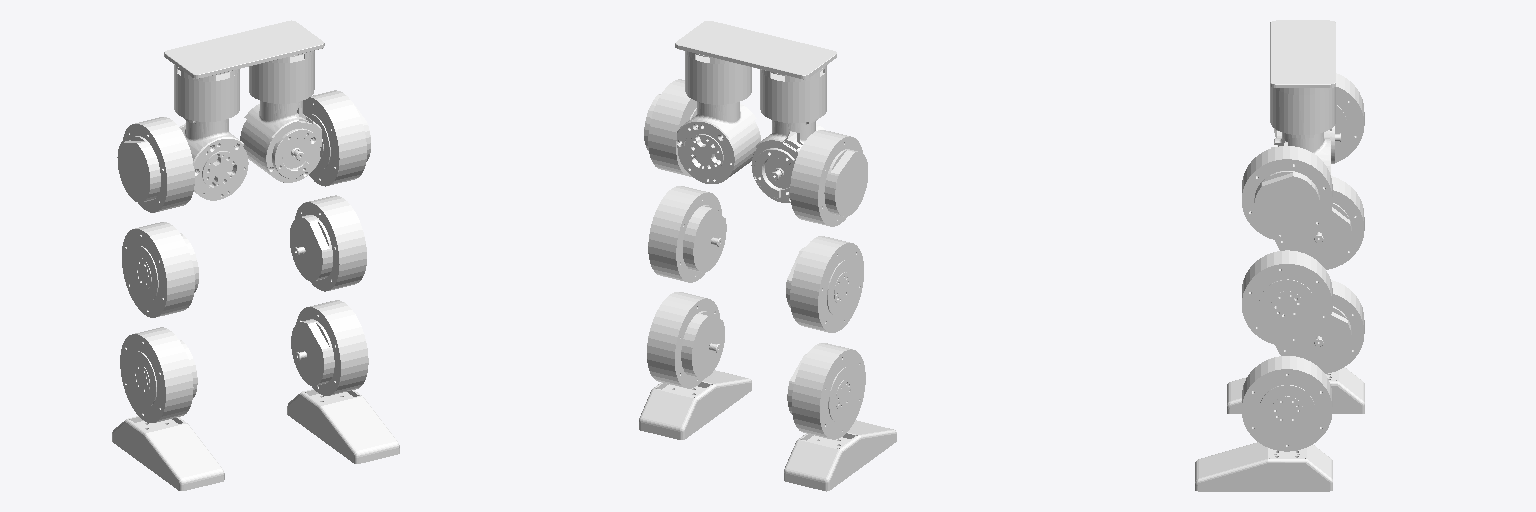
The robot description file, URDF, robot "converted_robot":
<?xml version="1.0" ?>
<robot name="converted_robot">
   <link name="world">
      <inertial>
         <origin xyz="0.0 0.0 0.0" rpy="0.0 0.0 0.0"/>
         <mass value="0.0"/>
         <inertia ixx="0.0" iyy="0.0" izz="0.0" ixy="0" ixz="0" iyz="0"/>
      </inertial>
   </link>
   <link name="base">
      <inertial>
         <origin xyz="-3.4211304109885643e-06 -2.490354269956851e-08 0.0015607933514156045" rpy="-0.17751113049943767 -1.5707843937251857 -2.964091695409995"/>
         <mass value="102.0"/>
         <inertia ixx="0.17242001282942743" iyy="0.1466316728707274" izz="0.028716044382297204" ixy="0" ixz="0" iyz="0"/>
      </inertial>
      <visual name="top_base">
         <origin xyz="-1.727430576882212e-11 -3.036580521290373e-12 0.0020000000757601855" rpy="3.141592653589793 -1.5707963267948966 0.0"/>
         <geometry>
            <mesh filename="converted_top_base.stl"/>
         </geometry>
         <material name="white"/>
      </visual>
      <visual name="GSA_motor">
         <origin xyz="-0.03717447678724513 -1.2699288486519294e-06 -0.02039954286581345" rpy="2.064562682641896 -1.282378978223323 0.05188910277957115"/>
         <geometry>
            <mesh filename="converted_GSA_motor.stl"/>
         </geometry>
         <material name="white"/>
      </visual>
      <visual name="GSA_motor">
         <origin xyz="0.03682552321275487 -1.2699288486519294e-06 -0.02039954286581345" rpy="2.064562682641896 -1.282378978223323 0.05188910277957115"/>
         <geometry>
            <mesh filename="converted_GSA_motor.stl"/>
         </geometry>
         <material name="white"/>
      </visual>

      <collision>
         <geometry>
            <cylinder length="0.05" radius="0.04"/>
         </geometry>
         <origin xyz="-0.037 0 -0.022" rpy="0 0 0"/>
         <contact_coefficients mu="1" kp="1000.0" kd="1.0"/>
      </collision>
      <collision>
         <geometry>
            <cylinder length="0.05" radius="0.04"/>
         </geometry>
         <origin xyz="0.037 0 -0.022" rpy="0 0 0"/>
         <contact_coefficients mu="1" kp="1000.0" kd="1.0"/>
      </collision>
   </link>

   <link name="world2base_fixed_jointbody">
      <inertial>
         <origin xyz="0.0 0.0 0.0" rpy="0.0 0.0 0.0"/>
         <mass value="0.001"/>
         <inertia ixx="1e-09" iyy="1e-09" izz="1e-09" ixy="0" ixz="0" iyz="0"/>
      </inertial>
   </link>
   <joint type="fixed" name="world2base_fixed">
      <parent link="world"/>
      <child link="world2base_fixed_jointbody"/>
      <origin xyz="0.0 0.0 0.3685" rpy="0.0 0.0 0.0"/>
   </joint>
   <joint type="fixed" name="world2base_fixed_offset">
      <parent link="world2base_fixed_jointbody"/>
      <child link="base"/>
      <origin xyz="-0.0 -0.0 -0.0" rpy="0.0 0.0 0.0"/>
   </joint>
   <link name="left_leg1">
      <inertial>
         <origin xyz="-0.001452937585979903 0.01710854259181341 0.009885533891432676" rpy="-0.15176900399610038 -0.11560929427985034 2.3500658386485105"/>
         <mass value="1.0"/>
         <inertia ixx="0.00047926905851977604" iyy="0.000462327954156068" izz="0.0003410536632309082" ixy="0" ixz="0" iyz="0"/>
      </inertial>
      <visual name="leg1">
         <origin xyz="-0.001452937585979903 0.01710854259181341 0.009885533891432676" rpy="-0.15176900434746465 -0.11560931426673537 2.3500658417272327"/>
         <geometry>
            <mesh filename="converted_leg1.stl"/>
         </geometry>
         <material name="white"/>
      </visual>

      <collision>
         <origin xyz="0 0.01375 0.035" rpy="0 0 0"/>
         <geometry>
            <cylinder radius="0.022" length="0.02"/>
         </geometry>
      </collision>
      <collision>
         <origin xyz="0 0.015 0" rpy="1.5707963268 0 0"/> <!-- Rotation of 90 degrees about the X-axis -->
         <geometry>
            <cylinder radius="0.031" length="0.056"/>
         </geometry>
      </collision>

   </link>
   <link name="joint_left_leg1_jointbody">
      <inertial>
         <origin xyz="0.0 0.0 0.0" rpy="0.0 0.0 0.0"/>
         <mass value="0.001"/>
         <inertia ixx="1e-09" iyy="1e-09" izz="1e-09" ixy="0" ixz="0" iyz="0"/>
      </inertial>
   </link>
   <joint type="revolute" name="joint_left_leg1">
      <parent link="base"/>
      <child link="joint_left_leg1_jointbody"/>
      <origin xyz="-0.037 0.0 -0.095" rpy="0.0 0.0 0.0"/>
      <axis xyz="0.0 0.0 1.0"/>
      <limit lower="-1.5707963267948966" upper="1.5707963267948966" effort="100" velocity="100"/>
   </joint>
   <joint type="fixed" name="joint_left_leg1_offset">
      <parent link="joint_left_leg1_jointbody"/>
      <child link="left_leg1"/>
      <origin xyz="-0.0 -0.01375 -0.0" rpy="0.0 0.0 0.0"/>
   </joint>
   <link name="left_leg2">
      <inertial>
         <origin xyz="-0.06353323746651635 -1.0117572570772072e-05 -0.05040368781716482" rpy="0.0005981280417807397 -0.05157899065452698 -0.0006661205266934999"/>
         <mass value="1.0"/>
         <inertia ixx="0.002952437700856836" iyy="0.002736345424099424" izz="0.00043670614070026326" ixy="0" ixz="0" iyz="0"/>
      </inertial>
      <visual name="leg2">
         <origin xyz="-0.06353323746651635 -1.0117572570772072e-05 -0.05040368781716482" rpy="0.0005981280661683934 -0.051579022869918 -0.0006661205458496606"/>
         <geometry>
            <mesh filename="converted_leg2.stl"/>
         </geometry>
         <material name="white"/>
      </visual>

      <collision>
         <origin xyz="-0.068 0 0" rpy="0 1.5707963268 0"/> <!-- 90 degrees rotation around the Y-axis -->
         <geometry>
            <cylinder radius="0.04" length="0.042"/>
         </geometry>
      </collision>
      <collision>
         <origin xyz="-0.06525 0 -0.05" rpy="0 0 0"/> <!-- No rotation -->
         <geometry>
            <capsule radius="0.01" length="0.02"/>
         </geometry>
      </collision>
      <collision>
         <origin xyz="-0.06 0 -0.1" rpy="0 1.5707963268 0"/> <!-- 90 degrees rotation around the Y-axis -->
         <geometry>
            <cylinder radius="0.04" length="0.042"/>
         </geometry>
      </collision>
      <collision>
         <origin xyz="-0.033 0 -0.1" rpy="0 1.5707963268 0"/> <!-- 90 degrees rotation around the Y-axis -->
         <geometry>
            <cylinder radius="0.006" length="0.012"/>
         </geometry>
      </collision>

   </link>
   <link name="joint_left_leg12_jointbody">
      <inertial>
         <origin xyz="0.0 0.0 0.0" rpy="0.0 0.0 0.0"/>
         <mass value="0.001"/>
         <inertia ixx="1e-09" iyy="1e-09" izz="1e-09" ixy="0" ixz="0" iyz="0"/>
      </inertial>
   </link>
   <joint type="revolute" name="joint_left_leg12">
      <parent link="left_leg1"/>
      <child link="joint_left_leg12_jointbody"/>
      <origin xyz="0.0115 0.01375 0.0" rpy="0.0 0.0 0.0"/>
      <axis xyz="0.0 1.0 0.0"/>
      <limit lower="-0.872665" upper="0.174533" effort="100" velocity="100"/>
   </joint>
   <link name="joint_left_leg2_jointbody">
      <inertial>
         <origin xyz="0.0 0.0 0.0" rpy="0.0 0.0 0.0"/>
         <mass value="0.001"/>
         <inertia ixx="1e-09" iyy="1e-09" izz="1e-09" ixy="0" ixz="0" iyz="0"/>
      </inertial>
   </link>
   <joint type="revolute" name="joint_left_leg2">
      <parent link="joint_left_leg12_jointbody"/>
      <child link="joint_left_leg2_jointbody"/>
      <origin xyz="0.0115 0.01375 0.0" rpy="0.0 0.0 0.0"/>
      <axis xyz="-1.0 0.0 0.0"/>
      <limit lower="-2.967060" upper="2.967060" effort="100" velocity="100"/>
   </joint>
   <joint type="fixed" name="joint_left_leg2_offset">
      <parent link="joint_left_leg2_jointbody"/>
      <child link="left_leg2"/>
      <origin xyz="-0.0 -0.0 -0.0" rpy="0.0 0.0 0.0"/>
   </joint>
   <link name="left_leg3">
      <inertial>
         <origin xyz="-0.062377196123538585 -4.644821019518809e-05 -0.10008040953289711" rpy="1.0469517637872496 -0.005645692804368663 0.003260817465023935"/>
         <mass value="1.0"/>
         <inertia ixx="0.0007016859502857594" iyy="0.0004601204567843813" izz="0.0004579127751176568" ixy="0" ixz="0" iyz="0"/>
      </inertial>
      <visual name="leg3">
         <origin xyz="-0.062377196123538585 -4.644821019518809e-05 -0.10008040953289711" rpy="1.0469517638243213 -0.0056456965788584945 0.0032608109388136963"/>
         <geometry>
            <mesh filename="converted_leg3.stl"/>
         </geometry>
         <material name="white"/>
      </visual>

      <collision>
         <origin xyz="-0.06525 0 -0.05" rpy="0 0 0"/> <!-- No rotation -->
         <geometry>
            <capsule radius="0.01" length="0.02"/>
         </geometry>
      </collision>
      <collision>
         <origin xyz="-0.06 0 -0.1" rpy="0 1.5707963268 0"/> <!-- 90 degrees rotation around the Y-axis -->
         <geometry>
            <cylinder radius="0.04" length="0.042"/>
         </geometry>
      </collision>
      <collision>
         <origin xyz="-0.033 0 -0.1" rpy="0 1.5707963268 0"/> <!-- 90 degrees rotation around the Y-axis -->
         <geometry>
            <cylinder radius="0.006" length="0.012"/>
         </geometry>
      </collision>

   </link>
   <link name="joint_left_leg3_jointbody">
      <inertial>
         <origin xyz="0.0 0.0 0.0" rpy="0.0 0.0 0.0"/>
         <mass value="0.001"/>
         <inertia ixx="1e-09" iyy="1e-09" izz="1e-09" ixy="0" ixz="0" iyz="0"/>
      </inertial>
   </link>
   <joint type="revolute" name="joint_left_leg3">
      <parent link="left_leg2"/>
      <child link="joint_left_leg3_jointbody"/>
      <origin xyz="0.0 0.0 -0.1" rpy="0.0 0.0 0.0"/>
      <axis xyz="1.0 0.0 0.0"/>
      <limit lower="0" upper="2.268928" effort="100" velocity="100"/>
   </joint>
   <joint type="fixed" name="joint_left_leg3_offset">
      <parent link="joint_left_leg3_jointbody"/>
      <child link="left_leg3"/>
      <origin xyz="-0.0 -0.0 -0.0" rpy="0.0 0.0 0.0"/>
   </joint>
   <link name="left_foot">
      <inertial>
         <origin xyz="-3.376177828075782e-07 -0.016111475801689343 -0.06474004681919711" rpy="3.1403444956905995 -1.528381632682709 -1.569560431427483"/>
         <mass value="2.0"/>
         <inertia ixx="0.0023275568854970643" iyy="0.002117574063224331" izz="0.0004286806635036659" ixy="0" ixz="0" iyz="0"/>
      </inertial>
      <visual name="foot">
         <origin xyz="-6.752337760860577e-07 -0.01222295164580474 -0.05848009372299657" rpy="3.140201803154934 -1.5283193564154143 -1.5694446549316492"/>
         <geometry>
            <mesh filename="converted_foot.stl"/>
         </geometry>
         <material name="white"/>
      </visual>
      <visual name="sole">
         <origin xyz="-1.7895290986650519e-12 -0.019999999957573945 -0.07099999991539764" rpy="1.5707963267948966 -1.5707963267948966 0.0"/>
         <geometry>
            <mesh filename="converted_sole.stl"/>
         </geometry>
         <material name="white"/>
      </visual>

      <collision>
         <geometry>
            <box size="0.044 0.06 0.024"/>
         </geometry>
         <origin xyz="0 0 -0.053" rpy="0 0 0"/>
      </collision>

      <collision>
         <geometry>
            <cylinder length="0.034" radius="0.006"/>
         </geometry>
         <origin xyz="0 0.034 -0.06850" rpy="0 -1.5707963268 0"/>
      </collision>

      <collision>
         <geometry>
            <cylinder length="0.034" radius="0.006"/>
         </geometry>
         <origin xyz="0 -0.074 -0.06850" rpy="0 -1.5707963268 0"/>
      </collision>

      <collision>
         <geometry>
            <cylinder length="0.108" radius="0.006"/>
         </geometry>
         <origin xyz="0.017 -0.02 -0.06850" rpy="1.5707963268 0 0"/>
      </collision>

      <collision>
         <geometry>
            <cylinder length="0.108" radius="0.006"/>
         </geometry>
         <origin xyz="-0.017 -0.02 -0.06850" rpy="1.5707963268 0 0"/>
      </collision>

      <collision>
         <geometry>
            <sphere radius="0.006"/>
         </geometry>
         <origin xyz="-0.017 0.034 -0.06850" rpy="0 0 0"/>
      </collision>
      <collision>
         <geometry>
            <sphere radius="0.006"/>
         </geometry>
         <origin xyz="-0.017 -0.074 -0.06850" rpy="0 0 0"/>
      </collision>
      <collision>
         <geometry>
            <sphere radius="0.006"/>
         </geometry>
         <origin xyz="0.017 0.034 -0.06850" rpy="0 0 0"/>
      </collision>
      <collision>
         <geometry>
            <sphere radius="0.006"/>
         </geometry>
         <origin xyz="0.017 -0.074 -0.06850" rpy="0 0 0"/>
      </collision>
   </link>
   <link name="joint_left_foot_jointbody">
      <inertial>
         <origin xyz="0.0 0.0 0.0" rpy="0.0 0.0 0.0"/>
         <mass value="0.001"/>
         <inertia ixx="1e-09" iyy="1e-09" izz="1e-09" ixy="0" ixz="0" iyz="0"/>
      </inertial>
   </link>
   <joint type="revolute" name="joint_left_foot">
      <parent link="left_leg3"/>
      <child link="joint_left_foot_jointbody"/>
      <origin xyz="-0.06525 0.0 -0.1" rpy="0.0 0.0 0.0"/>
      <axis xyz="1.0 0.0 0.0"/>
      <limit lower="-1.134464" upper="1.396263" effort="100" velocity="100"/>
   </joint>
   <joint type="fixed" name="joint_left_foot_offset">
      <parent link="joint_left_foot_jointbody"/>
      <child link="left_foot"/>
      <origin xyz="-0.0 -0.0 -0.0" rpy="0.0 0.0 0.0"/>
   </joint>
   <link name="right_leg1">
      <inertial>
         <origin xyz="-0.001452937585979903 0.01710854259181341 0.009885533891432676" rpy="-0.15176900399610038 -0.11560929427985034 2.3500658386485105"/>
         <mass value="1.0"/>
         <inertia ixx="0.00047926905851977604" iyy="0.000462327954156068" izz="0.0003410536632309082" ixy="0" ixz="0" iyz="0"/>
      </inertial>
      <visual name="leg1">
         <origin xyz="-0.001452937585979903 0.01710854259181341 0.009885533891432676" rpy="-0.15176900434746465 -0.11560931426673537 2.3500658417272327"/>
         <geometry>
            <mesh filename="converted_leg1.stl"/>
         </geometry>
         <material name="white"/>
      </visual>

      <collision>
         <origin xyz="0 0.01375 0.035" rpy="0 0 0"/>
         <geometry>
            <cylinder radius="0.022" length="0.02"/>
         </geometry>
      </collision>
      <collision>
         <origin xyz="0 0.015 0" rpy="1.5707963268 0 0"/> <!-- Rotation of 90 degrees about the X-axis -->
         <geometry>
            <cylinder radius="0.031" length="0.056"/>
         </geometry>
      </collision>
   </link>
   <link name="joint_right_leg1_jointbody">
      <inertial>
         <origin xyz="0.0 0.0 0.0" rpy="0.0 0.0 0.0"/>
         <mass value="0.001"/>
         <inertia ixx="1e-09" iyy="1e-09" izz="1e-09" ixy="0" ixz="0" iyz="0"/>
      </inertial>
   </link>
   <joint type="revolute" name="joint_right_leg1">
      <parent link="base"/>
      <child link="joint_right_leg1_jointbody"/>
      <origin xyz="0.037 0.0 -0.095" rpy="0.0 0.0 3.141592653589793"/>
      <axis xyz="0.0 0.0 1.0"/>
      <limit lower="-0.785398" upper="0.785398" effort="100" velocity="100"/>
   </joint>
   <joint type="fixed" name="joint_right_leg1_offset">
      <parent link="joint_right_leg1_jointbody"/>
      <child link="right_leg1"/>
      <origin xyz="-0.0 -0.01375 -0.0" rpy="0.0 0.0 0.0"/>
   </joint>
   <link name="right_leg2">
      <inertial>
         <origin xyz="-0.06353323746651635 -1.0117572570772072e-05 -0.05040368781716482" rpy="0.0005981280417807397 -0.05157899065452698 -0.0006661205266934999"/>
         <mass value="1.0"/>
         <inertia ixx="0.002952437700856836" iyy="0.002736345424099424" izz="0.00043670614070026326" ixy="0" ixz="0" iyz="0"/>
      </inertial>
      <visual name="leg2">
         <origin xyz="-0.06353323746651635 -1.0117572570772072e-05 -0.05040368781716482" rpy="0.0005981280661683934 -0.051579022869918 -0.0006661205458496606"/>
         <geometry>
            <mesh filename="converted_leg2.stl"/>
         </geometry>
         <material name="white"/>
      </visual>

      <collision>
         <origin xyz="-0.068 0 0" rpy="0 1.5707963268 0"/> <!-- 90 degrees rotation around the Y-axis -->
         <geometry>
            <cylinder radius="0.04" length="0.042"/>
         </geometry>
      </collision>
      <collision>
         <origin xyz="-0.06525 0 -0.05" rpy="0 0 0"/> <!-- No rotation -->
         <geometry>
            <capsule radius="0.01" length="0.02"/>
         </geometry>
      </collision>
      <collision>
         <origin xyz="-0.06 0 -0.1" rpy="0 1.5707963268 0"/> <!-- 90 degrees rotation around the Y-axis -->
         <geometry>
            <cylinder radius="0.04" length="0.042"/>
         </geometry>
      </collision>
      <collision>
         <origin xyz="-0.033 0 -0.1" rpy="0 1.5707963268 0"/> <!-- 90 degrees rotation around the Y-axis -->
         <geometry>
            <cylinder radius="0.006" length="0.012"/>
         </geometry>
      </collision>

   </link>

   <link name="joint_right_leg12_jointbody">
      <inertial>
         <origin xyz="0.0 0.0 0.0" rpy="0.0 0.0 0.0"/>
         <mass value="0.001"/>
         <inertia ixx="1e-09" iyy="1e-09" izz="1e-09" ixy="0" ixz="0" iyz="0"/>
      </inertial>
   </link>
   <joint type="revolute" name="joint_right_leg12">
      <parent link="right_leg1"/>
      <child link="joint_right_leg12_jointbody"/>
      <origin xyz="0.0115 0.01375 0.0" rpy="0.0 0.0 0.0"/>
      <axis xyz="0.0 -1.0 0.0"/>
      <limit lower="-0.174533" upper="0.872665" effort="100" velocity="100"/>
   </joint>

   <link name="joint_right_leg2_jointbody">
      <inertial>
         <origin xyz="0.0 0.0 0.0" rpy="0.0 0.0 0.0"/>
         <mass value="0.001"/>
         <inertia ixx="1e-09" iyy="1e-09" izz="1e-09" ixy="0" ixz="0" iyz="0"/>
      </inertial>
   </link>
   <joint type="revolute" name="joint_right_leg2">
      <parent link="joint_right_leg12_jointbody"/>
      <child link="joint_right_leg2_jointbody"/>
      <origin xyz="0.0115 0.01375 0.0" rpy="0.0 0.0 0.0"/>
      <axis xyz="-1.0 0.0 0.0"/>
      <limit lower="-2.967060" upper="2.967060" effort="100" velocity="100"/>
   </joint>
   <joint type="fixed" name="joint_right_leg2_offset">
      <parent link="joint_right_leg2_jointbody"/>
      <child link="right_leg2"/>
      <origin xyz="-0.0 -0.0 -0.0" rpy="0.0 0.0 0.0"/>
   </joint>
   <link name="right_leg3">
      <inertial>
         <origin xyz="-0.062377196123538585 -4.644821019518809e-05 -0.10008040953289711" rpy="1.0469517637872496 -0.005645692804368663 0.003260817465023935"/>
         <mass value="1.0"/>
         <inertia ixx="0.0007016859502857594" iyy="0.0004601204567843813" izz="0.0004579127751176568" ixy="0" ixz="0" iyz="0"/>
      </inertial>
      <visual name="leg3">
         <origin xyz="-0.062377196123538585 -4.644821019518809e-05 -0.10008040953289711" rpy="1.0469517638243213 -0.0056456965788584945 0.0032608109388136963"/>
         <geometry>
            <mesh filename="converted_leg3.stl"/>
         </geometry>
         <material name="white"/>
      </visual>
      
      <collision>
         <origin xyz="-0.06525 0 -0.05" rpy="0 0 0"/> <!-- No rotation -->
         <geometry>
            <capsule radius="0.01" length="0.02"/>
         </geometry>
      </collision>
      <collision>
         <origin xyz="-0.06 0 -0.1" rpy="0 1.5707963268 0"/> <!-- 90 degrees rotation around the Y-axis -->
         <geometry>
            <cylinder radius="0.04" length="0.042"/>
         </geometry>
      </collision>
      <collision>
         <origin xyz="-0.033 0 -0.1" rpy="0 1.5707963268 0"/> <!-- 90 degrees rotation around the Y-axis -->
         <geometry>
            <cylinder radius="0.006" length="0.012"/>
         </geometry>
      </collision>

   </link>
   <link name="joint_right_leg3_jointbody">
      <inertial>
         <origin xyz="0.0 0.0 0.0" rpy="0.0 0.0 0.0"/>
         <mass value="0.001"/>
         <inertia ixx="1e-09" iyy="1e-09" izz="1e-09" ixy="0" ixz="0" iyz="0"/>
      </inertial>
   </link>
   <joint type="revolute" name="joint_right_leg3">
      <parent link="right_leg2"/>
      <child link="joint_right_leg3_jointbody"/>
      <origin xyz="0.0 0.0 -0.1" rpy="0.0 0.0 0.0"/>
      <axis xyz="1.0 0.0 0.0"/>
      <limit lower="0" upper="2.268928" effort="100" velocity="100"/>
   </joint>
   <joint type="fixed" name="joint_right_leg3_offset">
      <parent link="joint_right_leg3_jointbody"/>
      <child link="right_leg3"/>
      <origin xyz="-0.0 -0.0 -0.0" rpy="0.0 0.0 0.0"/>
   </joint>
   <link name="right_foot">
      <inertial>
         <origin xyz="3.376177828075782e-07 0.016111475801689343 -0.06474004681919711" rpy="-0.0012481578991933029 -1.528381632682709 1.57203222216231"/>
         <mass value="2.0"/>
         <inertia ixx="0.0023275568854970643" iyy="0.002117574063224331" izz="0.0004286806635036659" ixy="0" ixz="0" iyz="0"/>
      </inertial>
      <visual name="foot">
         <origin xyz="6.752337760860577e-07 0.01222295164580474 -0.05848009372299657" rpy="3.140201803154934 -1.5283193564154143 1.572147998658144"/>
         <geometry>
            <mesh filename="converted_foot.stl"/>
         </geometry>
         <material name="white"/>
      </visual>
      <visual name="sole">
         <origin xyz="1.7895290986650519e-12 0.019999999957573945 -0.07099999991539764" rpy="-1.5707963267948966 -1.5707963267948966 0.0"/>
         <geometry>
            <mesh filename="converted_sole.stl"/>
         </geometry>
         <material name="white"/>
      </visual>

            <collision>
         <geometry>
            <box size="0.044 0.06 0.024"/>
         </geometry>
         <origin xyz="0 0 -0.053" rpy="0 0 0"/>
      </collision>

      <collision>
         <geometry>
            <cylinder length="0.034" radius="0.006"/>
         </geometry>
         <origin xyz="0 -0.034 -0.06850" rpy="0 -1.5707963268 0"/>
      </collision>

      <collision>
         <geometry>
            <cylinder length="0.034" radius="0.006"/>
         </geometry>
         <origin xyz="0 0.074 -0.06850" rpy="0 -1.5707963268 0"/>
      </collision>

      <collision>
         <geometry>
            <cylinder length="0.108" radius="0.006"/>
         </geometry>
         <origin xyz="0.017 0.02 -0.06850" rpy="1.5707963268 0 0"/>
      </collision>

      <collision>
         <geometry>
            <cylinder length="0.108" radius="0.006"/>
         </geometry>
         <origin xyz="-0.017 0.02 -0.06850" rpy="1.5707963268 0 0"/>
      </collision>

      <collision>
         <geometry>
            <sphere radius="0.006"/>
         </geometry>
         <origin xyz="-0.017 -0.034 -0.06850" rpy="0 0 0"/>
      </collision>
      <collision>
         <geometry>
            <sphere radius="0.006"/>
         </geometry>
         <origin xyz="-0.017 0.074 -0.06850" rpy="0 0 0"/>
      </collision>
      <collision>
         <geometry>
            <sphere radius="0.006"/>
         </geometry>
         <origin xyz="0.017 -0.034 -0.06850" rpy="0 0 0"/>
      </collision>
      <collision>
         <geometry>
            <sphere radius="0.006"/>
         </geometry>
         <origin xyz="0.017 0.074 -0.06850" rpy="0 0 0"/>
      </collision>

   </link>
   <link name="joint_right_foot_jointbody">
      <inertial>
         <origin xyz="0.0 0.0 0.0" rpy="0.0 0.0 0.0"/>
         <mass value="0.001"/>
         <inertia ixx="1e-09" iyy="1e-09" izz="1e-09" ixy="0" ixz="0" iyz="0"/>
      </inertial>
   </link>
   <joint type="revolute" name="joint_right_foot">
      <parent link="right_leg3"/>
      <child link="joint_right_foot_jointbody"/>
      <origin xyz="-0.06525 0.0 -0.1" rpy="0.0 0.0 0.0"/>
      <axis xyz="1.0 0.0 0.0"/>
      <limit lower="-1.134464" upper="1.396263" effort="100" velocity="100"/>
   </joint>
   <joint type="fixed" name="joint_right_foot_offset">
      <parent link="joint_right_foot_jointbody"/>
      <child link="right_foot"/>
      <origin xyz="-0.0 -0.0 -0.0" rpy="0.0 0.0 0.0"/>
   </joint>
   <material name="white">
      <color rgba="1 1 1 1"/>
   </material>
</robot>

--- Facts derived from the render (not from the file) ---
The picture shows the robot from 3 angles, left to right: view 1: azimuth 30°, elevation 25°; view 2: azimuth 150°, elevation 25°; view 3: azimuth 270°, elevation 25°; orthographic projection.
Model converted_robot with 21 links and 20 joints (10 revolute, 10 fixed), rooted at world, posed every joint at zero.
Links seen in each view (by area): view 1: left_leg2, base, right_leg2, right_leg3, left_leg3, right_foot, left_foot, right_leg1, left_leg1; view 2: left_leg2, base, right_leg2, right_leg3, left_leg3, right_leg1, left_foot, right_foot, left_leg1; view 3: right_leg2, base, right_leg3, right_foot, left_leg2, left_leg3, left_foot, right_leg1.
Boxes of the visible links, box(x1,y1,x2,y2) form: left_leg2: box(117, 117, 198, 317); base: box(164, 20, 324, 121); right_leg2: box(290, 90, 370, 291); right_leg3: box(291, 300, 368, 395); left_leg3: box(120, 327, 197, 422); right_foot: box(287, 389, 399, 463); left_foot: box(112, 416, 224, 490); right_leg1: box(240, 101, 321, 182); left_leg1: box(179, 118, 248, 200); left_leg2: box(786, 130, 867, 332); base: box(675, 21, 836, 122); right_leg2: box(644, 79, 726, 282); right_leg3: box(647, 292, 724, 388); left_leg3: box(787, 343, 865, 439); right_leg1: box(677, 102, 760, 183); left_foot: box(784, 420, 896, 491); right_foot: box(639, 370, 751, 439); left_leg1: box(751, 119, 824, 202); right_leg2: box(1242, 146, 1332, 345); base: box(1270, 20, 1335, 134); right_leg3: box(1242, 356, 1332, 451); right_foot: box(1195, 442, 1332, 491); left_leg2: box(1274, 73, 1364, 269); left_leg3: box(1275, 280, 1364, 373); left_foot: box(1227, 367, 1364, 413); right_leg1: box(1271, 132, 1330, 174).
Size in the robot's own frame: 0.204 by 0.1475 by 0.3725 metres.
Meshes: 7 distinct files referenced, 13 mesh visuals loaded (7 binary STL).